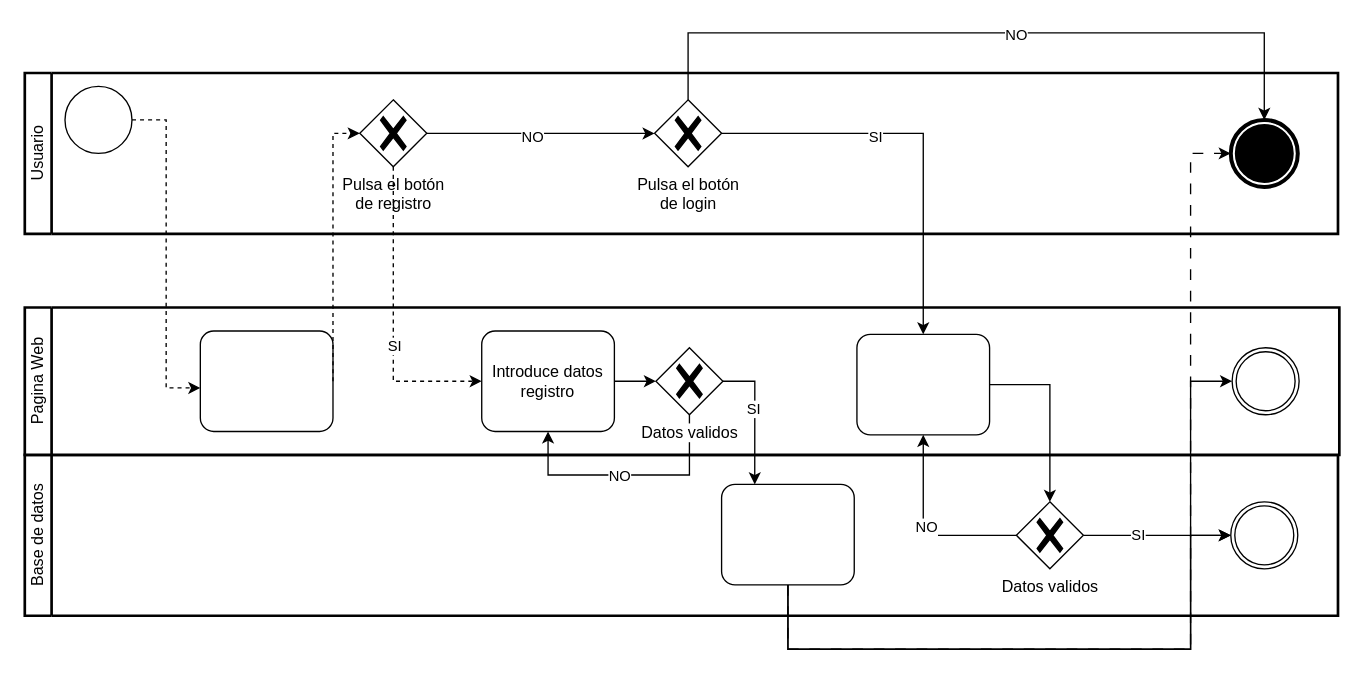
Some shapes in this 1363 by 683 pixel diagram are drawn without their labels. The centre of each missing label's shape, as x and y in pixels:
"Datos añadidos" goes at pixel 787 534.
"El usuario pulsa el botón de Loguin/Registro" goes at pixel 266 380.
"El usuario requiere registrarse" goes at pixel 98 119.
"Introduce datos Login" goes at pixel 923 384.
